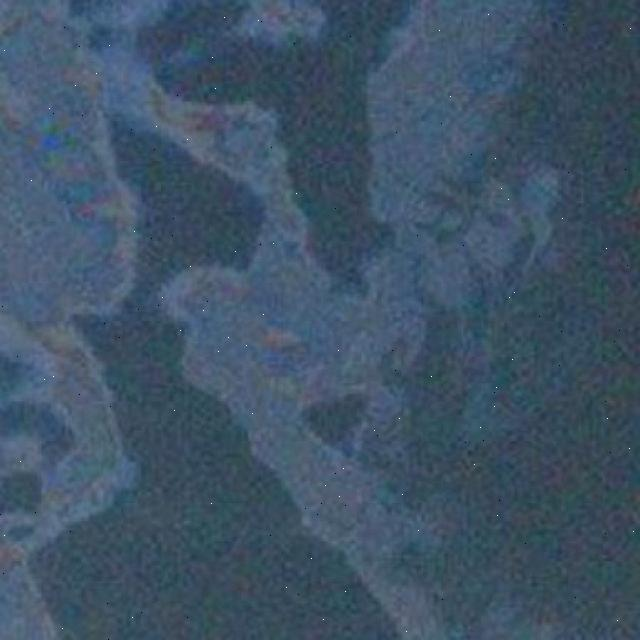sheen: (0, 3, 569, 640)
